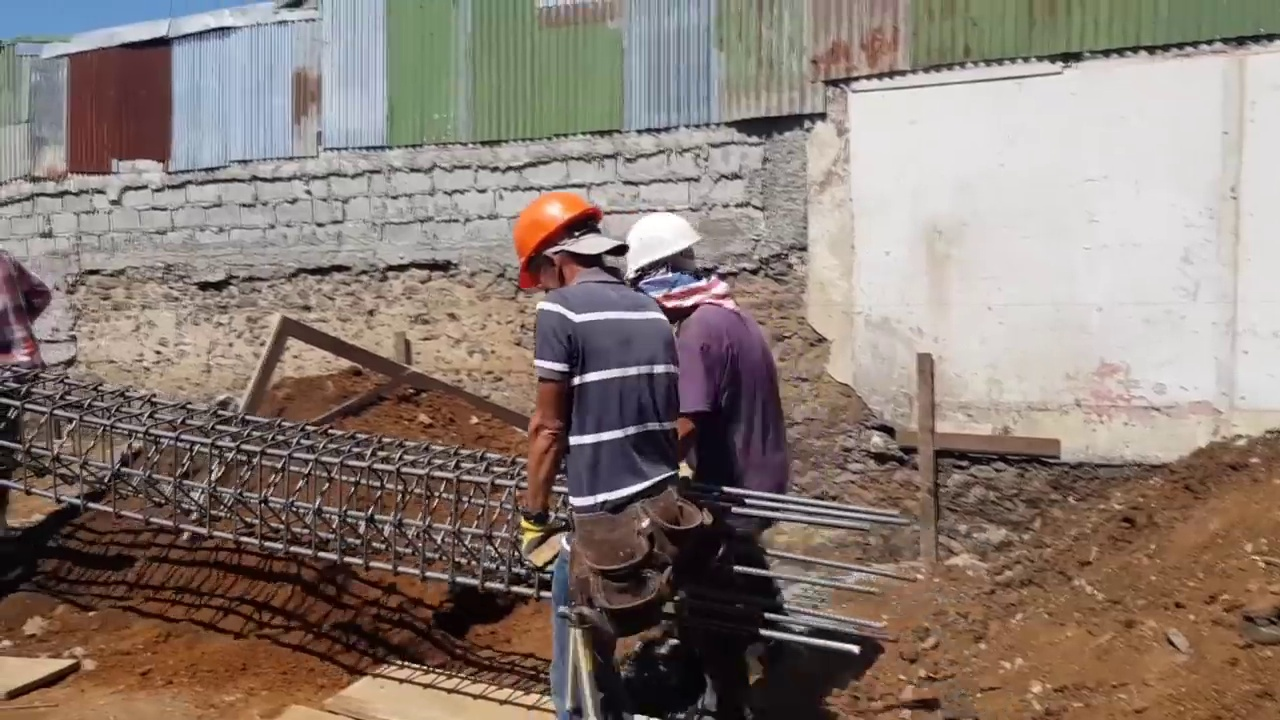helmet: (511, 194, 603, 288), (624, 217, 699, 274)
helmet-on: (511, 189, 630, 294), (626, 210, 731, 324)
person: (506, 190, 706, 718), (626, 210, 796, 675), (0, 244, 60, 368)
